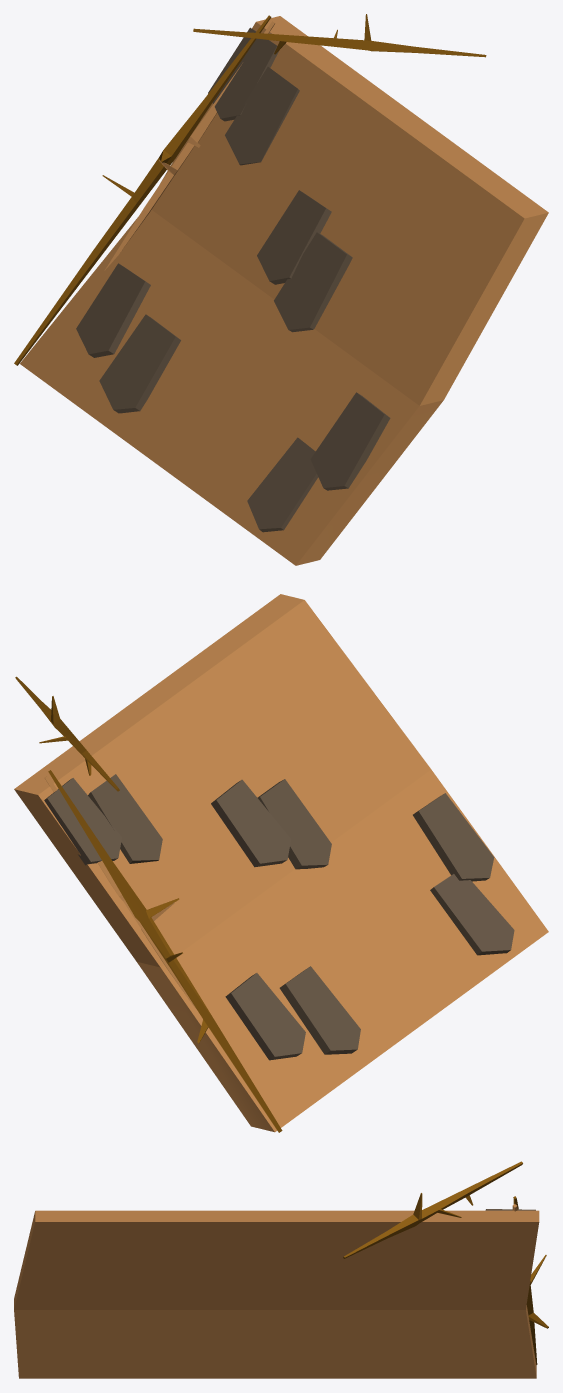
Rendered from BirdHouse_Roof-R.fbx.
3 views of the same model, one above another, from view 1: azimuth 30°, elevation 25°; view 2: azimuth 150°, elevation 25°; view 3: azimuth 270°, elevation 25° (orthographic). The views are drawn at different scales.
Visible parts, largest first — view 1: DachRechts; view 2: DachRechts; view 3: DachRechts.
Part boxes in pixels (x1,y1,x2,y2): DachRechts: (14,14,548,565); DachRechts: (14,594,548,1132); DachRechts: (14,1161,548,1378).
Size of the model in its own units: 465 by 391 by 620.
